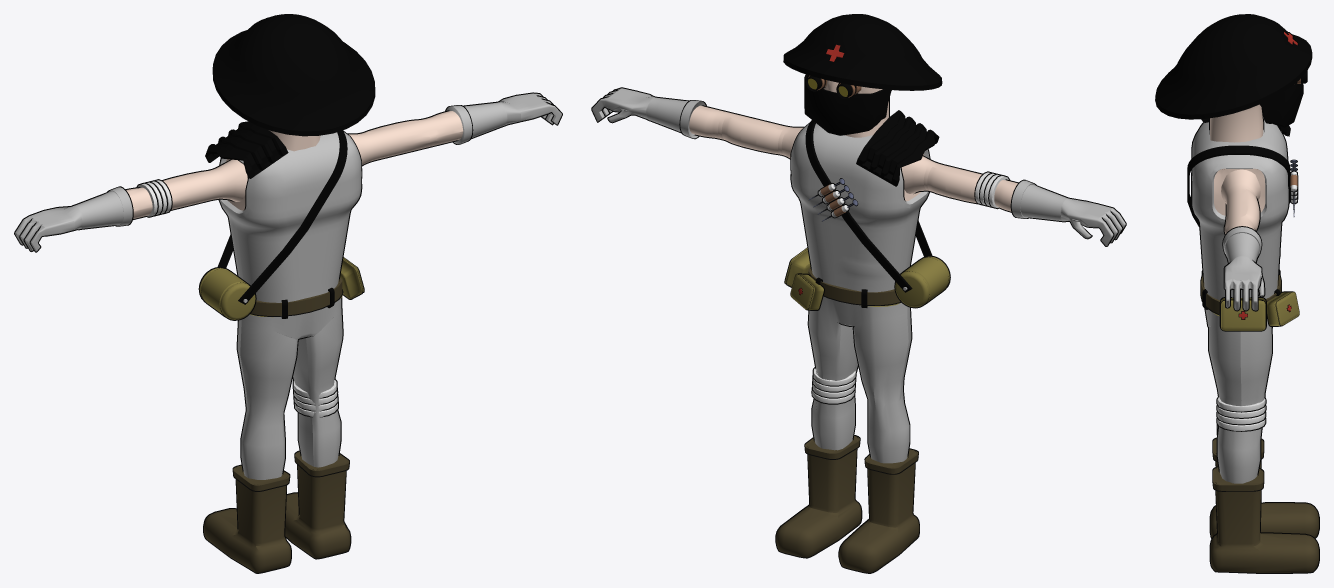
File: Character4.fbx
3 renders of one model, left to right at view 1: azimuth 30°, elevation 25°; view 2: azimuth 150°, elevation 25°; view 3: azimuth 270°, elevation 25°, orthographic. The views are drawn at different scales.
Parts seen in each view (by area): view 1: Cylinder.003; view 2: Cylinder.003; view 3: Cylinder.003.
Boxes of the visible parts, box(x1,y1,x2,y2) form: Cylinder.003: box(14, 14, 562, 573); Cylinder.003: box(591, 14, 1126, 573); Cylinder.003: box(1155, 14, 1319, 573).
Size of the model in its own units: 1226 by 1164 by 328.
